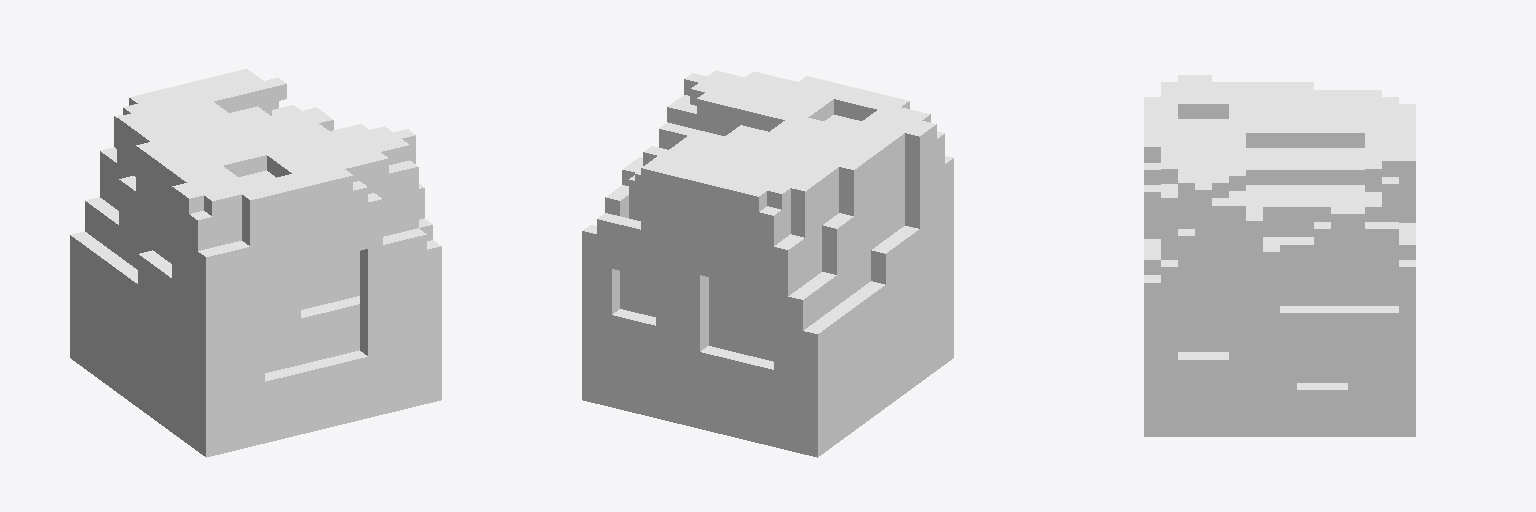
File: Anomaly_1.obj
The picture shows the model from 3 angles: view 1: azimuth 30°, elevation 25°; view 2: azimuth 150°, elevation 25°; view 3: azimuth 270°, elevation 25°; orthographic projection.
Visible parts, largest first — view 1: object 1; view 2: object 1; view 3: object 1.
Boxes of the visible parts, box(x1,y1,x2,y2) form: object 1: box(70, 69, 441, 457); object 1: box(582, 70, 953, 457); object 1: box(1144, 75, 1415, 436).
Size of the model in its own units: 1.6 by 1.6 by 1.6.